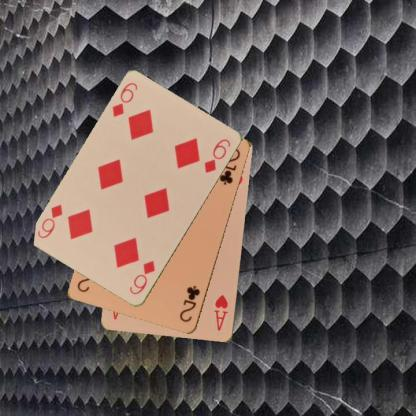2c: (176, 283, 202, 324)
6d: (109, 80, 139, 119), (127, 258, 156, 296)
Ah: (211, 292, 230, 333)
